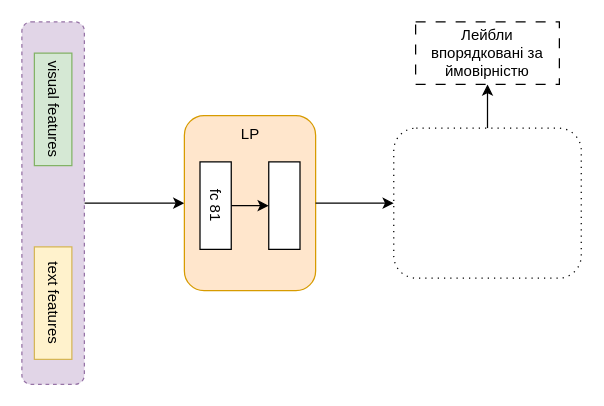
Some shapes in this 604 by 406 pixel diagram are drawn without their labels. The box of each missing label's shape, as (x1, y1, x2, y2) in pixels:
ocean, person, sports, surf, water, sky, frost, ...: (392, 127, 581, 278)
sigmoid: (268, 161, 300, 249)
